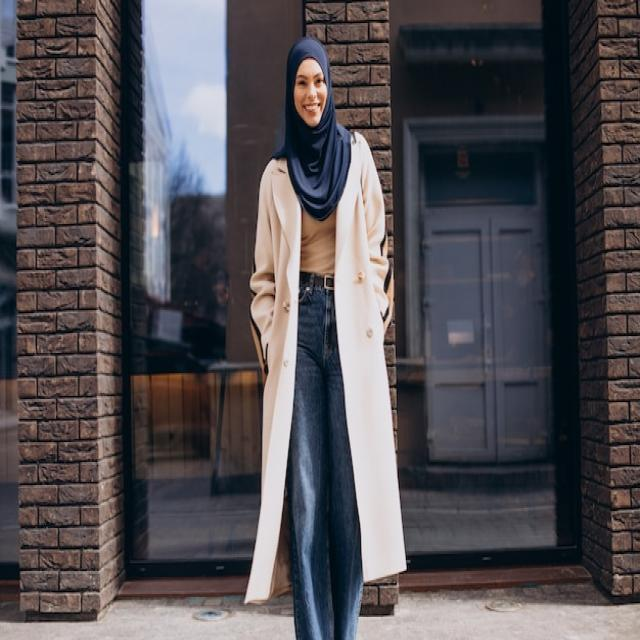Person: (244, 35, 406, 640)
